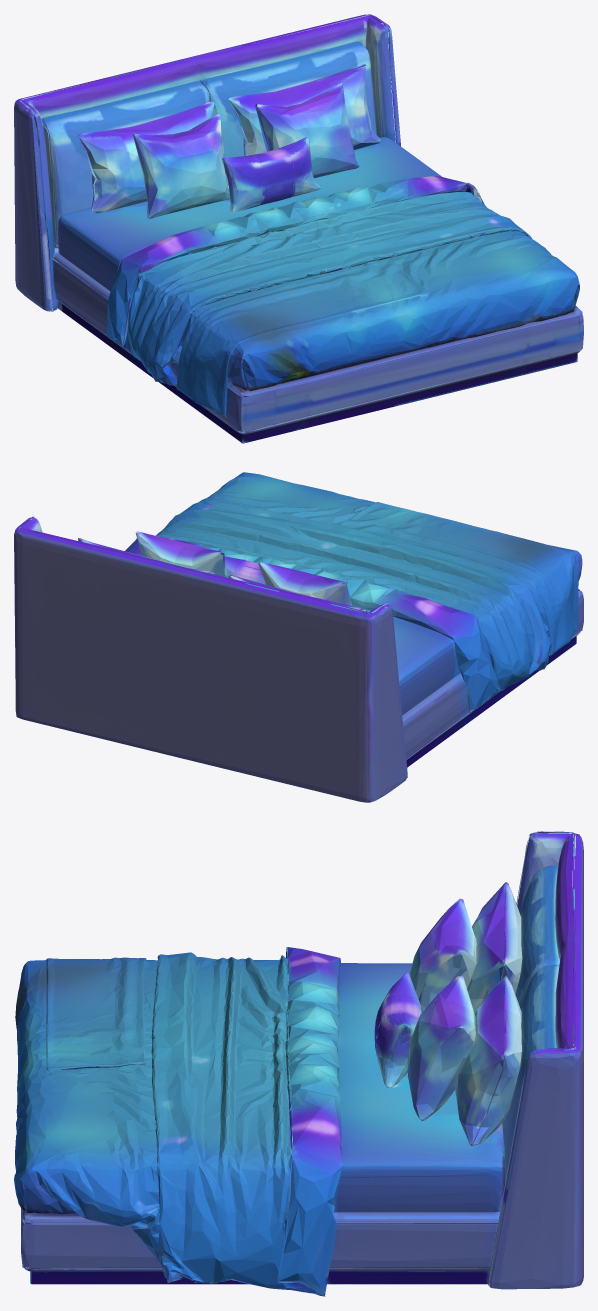
The model's file is edited_mesh.glb.
3 views of the same model, one above another, from view 1: azimuth 30°, elevation 25°; view 2: azimuth 150°, elevation 25°; view 3: azimuth 270°, elevation 25° (orthographic). The views are drawn at different scales.
Parts seen in each view (by area): view 1: solid_001_wire; view 2: solid_001_wire; view 3: solid_001_wire.
Part boxes in pixels (box(x1,y1,x2,y2)): solid_001_wire: box(14, 14, 583, 443); solid_001_wire: box(14, 472, 583, 802); solid_001_wire: box(14, 831, 583, 1296).
Bounding box in the file's own units: 2 × 0.9449 × 1.97.
1 material, 1 textured.
